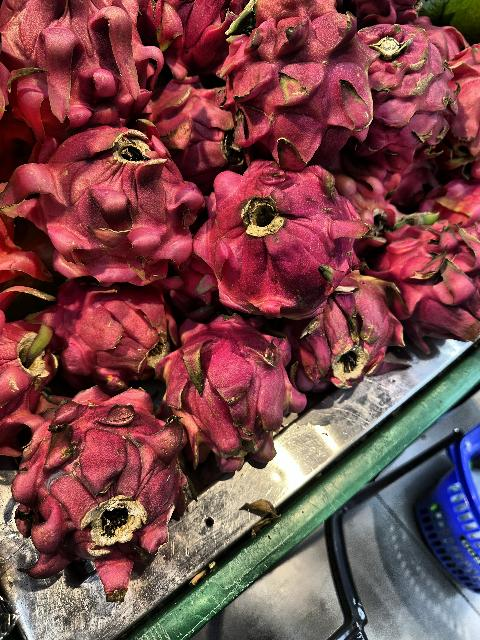buah-naga-matang: (4, 130, 220, 290), (15, 391, 186, 583), (191, 156, 355, 322), (215, 3, 369, 165), (154, 304, 308, 450), (0, 0, 164, 116), (358, 21, 464, 176), (44, 274, 166, 386), (299, 260, 393, 384)
